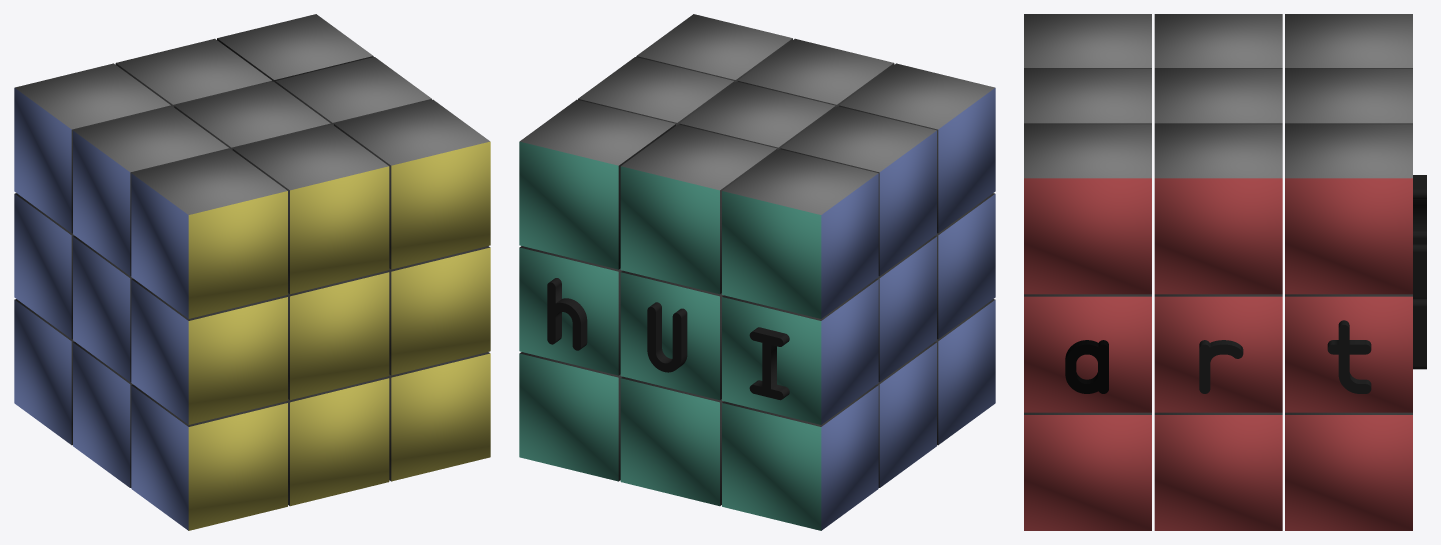
Rendered from animated-rubix.glb.
The picture shows the model from 3 angles, left to right: view 1: azimuth 30°, elevation 25°; view 2: azimuth 150°, elevation 25°; view 3: azimuth 270°, elevation 25°; orthographic projection. The views are drawn at different scales.
Visible parts, largest first — view 1: Cube.015, Cube.002, Cube.024, Cube.017, Cube.016, Cube.011, Cube.014, Cube, Cube.026, Cube.025, Cube.001, Cube.023 (+7 smaller); view 2: Cube.014, Cube.023, Cube.012, Cube.013, Cube.003, Cube.011, Cube.015, Cube.021, Cube.022, Cube.004, Cube.005, Cube.024 (+10 smaller); view 3: Cube.010, Cube.013, Cube.016, Cube.019, Cube.022, Cube.025, Cube.007, Cube.004, Cube.001, Cube.009, Cube.012, Cube.017 (+9 smaller).
Part boxes in pixels (box(x1,y1,x2,y2)): Cube.015: box(131, 149, 287, 318); Cube.002: box(131, 278, 287, 424); Cube.024: box(131, 384, 287, 530); Cube.017: box(232, 124, 389, 294); Cube.016: box(334, 99, 490, 269); Cube.011: box(73, 106, 229, 276); Cube.014: box(14, 63, 170, 233); Cube: box(286, 270, 389, 400); Cube.026: box(286, 376, 389, 506); Cube.025: box(387, 352, 490, 481); Cube.001: box(387, 246, 490, 375); Cube.023: box(14, 299, 74, 445); Cube.014: box(722, 149, 878, 318); Cube.023: box(722, 384, 878, 530); Cube.012: box(620, 124, 777, 294); Cube.013: box(519, 99, 675, 269); Cube.003: box(722, 278, 878, 424); Cube.011: box(780, 106, 936, 276); Cube.015: box(839, 63, 995, 233); Cube.021: box(620, 376, 723, 506); Cube.022: box(519, 352, 622, 481); Cube.004: box(519, 246, 622, 375); Cube.005: box(620, 270, 723, 400); Cube.024: box(935, 299, 995, 445); Cube.010: box(1154, 124, 1282, 294); Cube.013: box(1285, 124, 1412, 294); Cube.016: box(1024, 124, 1151, 294); Cube.019: box(1154, 412, 1282, 530); Cube.022: box(1285, 412, 1412, 530); Cube.025: box(1024, 412, 1151, 530); Cube.007: box(1154, 294, 1282, 412); Cube.004: box(1285, 294, 1412, 412); Cube.001: box(1024, 294, 1151, 412); Cube.009: box(1154, 69, 1282, 124); Cube.012: box(1285, 69, 1412, 124); Cube.017: box(1024, 69, 1151, 124).
Size of the model in its own units: 6.25 by 6.08 by 6.3.
